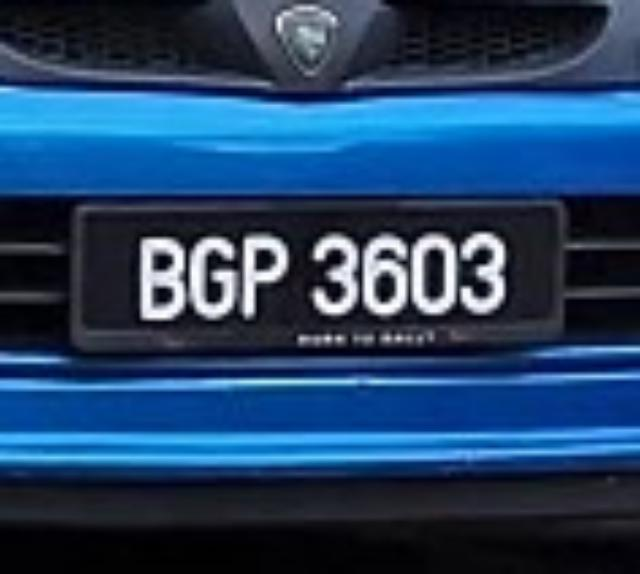License_Plate: (58, 183, 580, 371)
